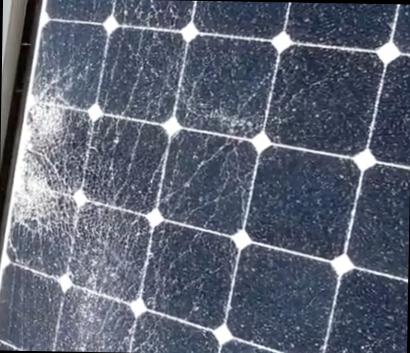Crack: (11, 154, 76, 232), (22, 78, 72, 148)
